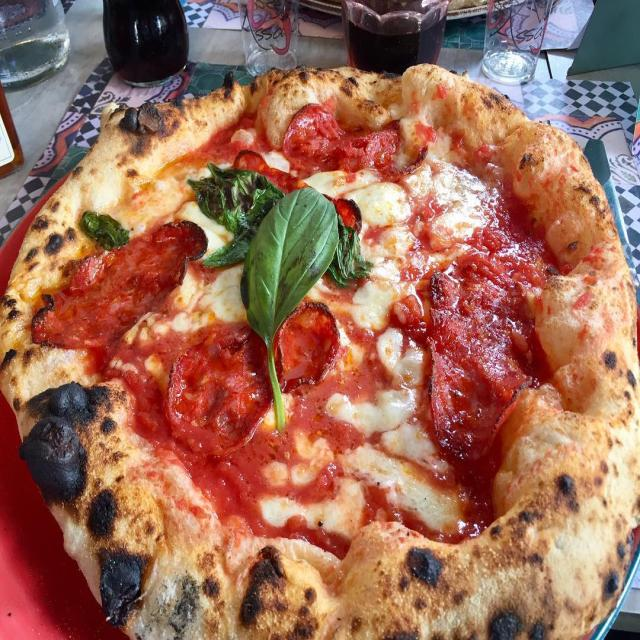basil: (238, 176, 340, 438), (182, 149, 290, 269), (325, 217, 374, 289), (74, 202, 131, 252)
pepperoni: (30, 218, 212, 345), (432, 256, 542, 465), (167, 316, 271, 460), (229, 132, 367, 228), (285, 101, 428, 180), (274, 297, 350, 399)
pizza: (0, 65, 640, 638)
